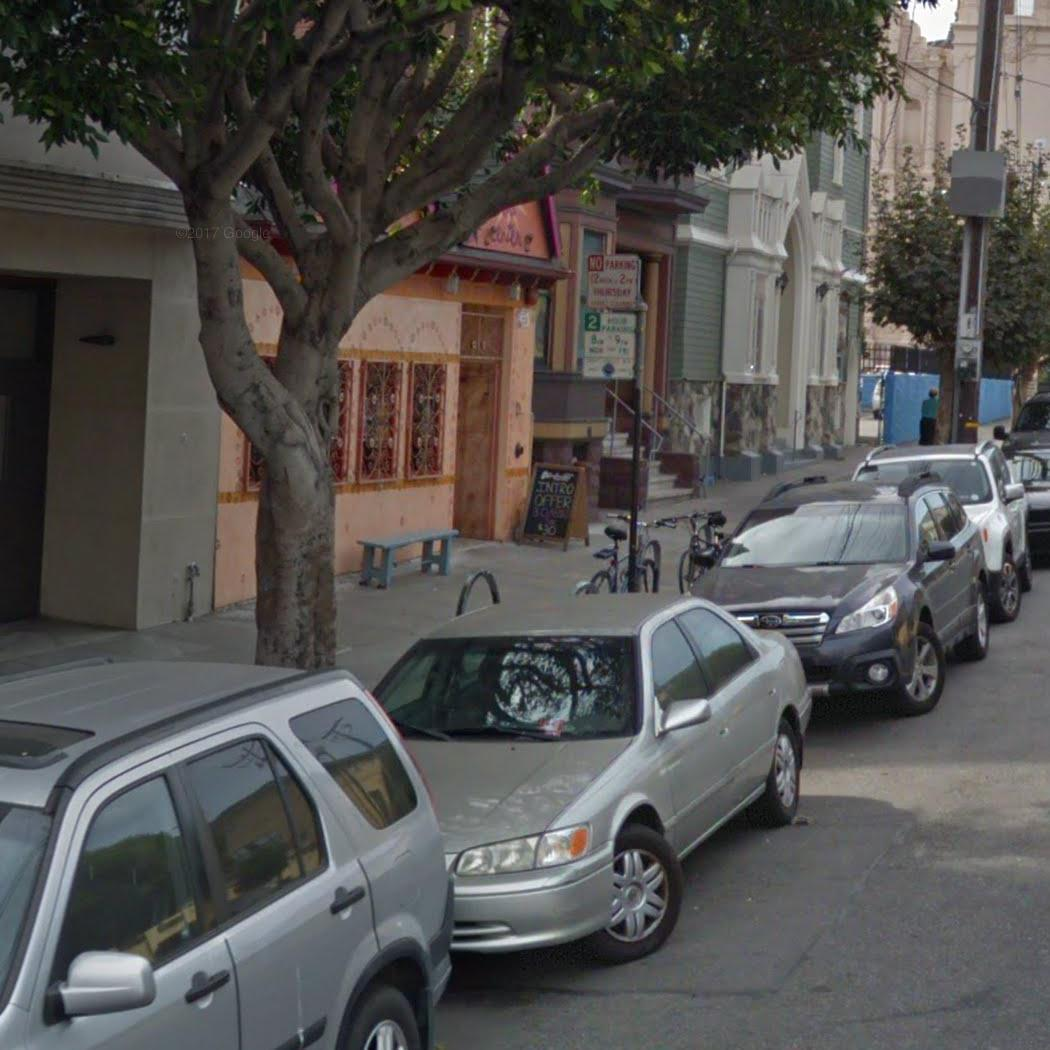2 Hour Parking: (581, 309, 639, 382)
No Parking: (584, 252, 643, 312)
